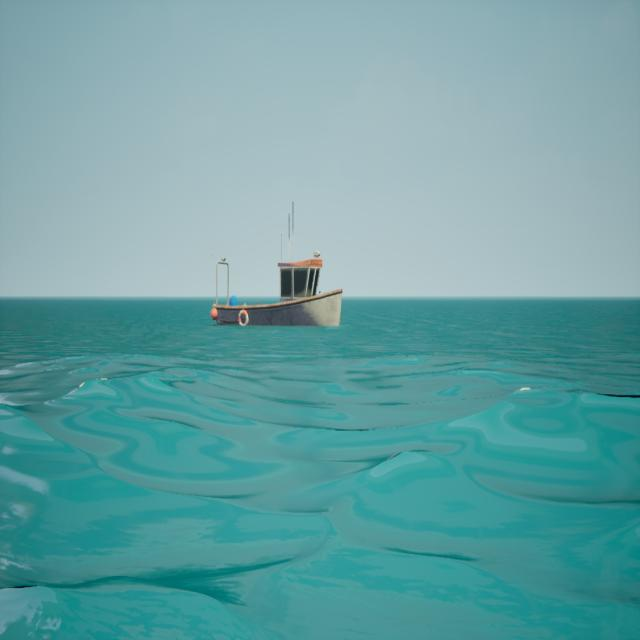ship: (198, 196, 352, 347)
